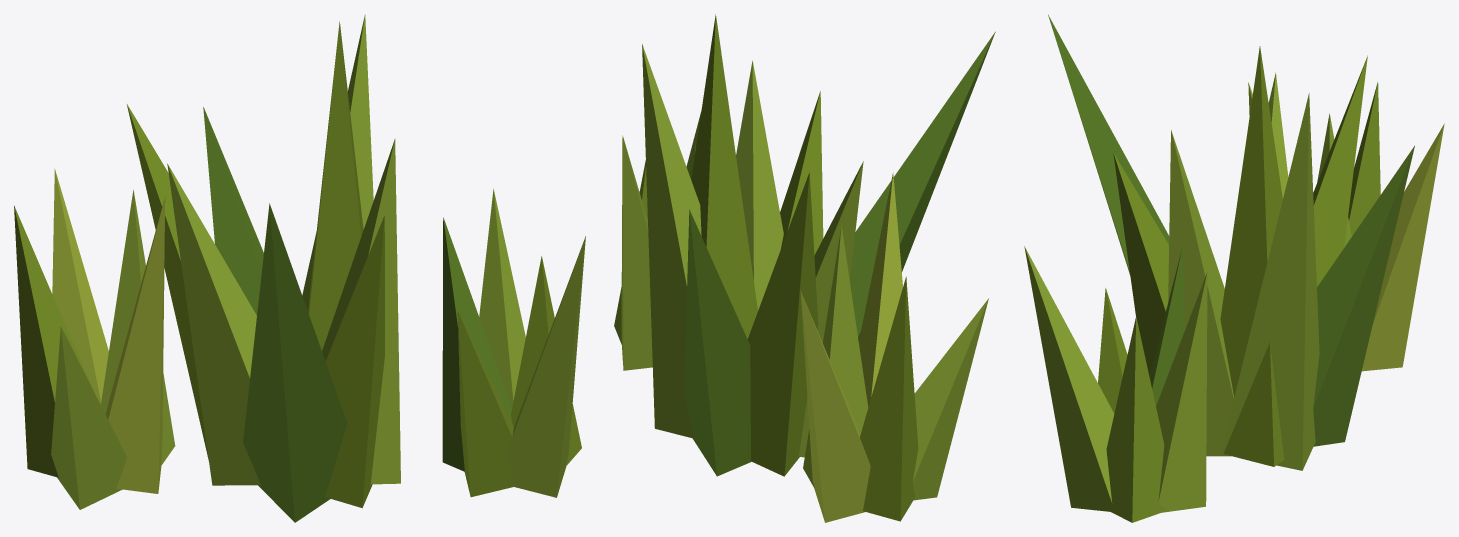
Rendered from p_grass_2.glb.
3 renders of one model, left to right at view 1: azimuth 30°, elevation 25°; view 2: azimuth 150°, elevation 25°; view 3: azimuth 270°, elevation 25°, orthographic. The views are drawn at different scales.
Visible parts, largest first — view 1: body; view 2: body; view 3: body.
Boxes of the visible parts, bbox=[...] form: body: bbox=[14, 14, 585, 522]; body: bbox=[614, 14, 995, 522]; body: bbox=[1024, 14, 1444, 522].
Size of the model in its own units: 0.6251 by 0.5859 by 0.5263.
